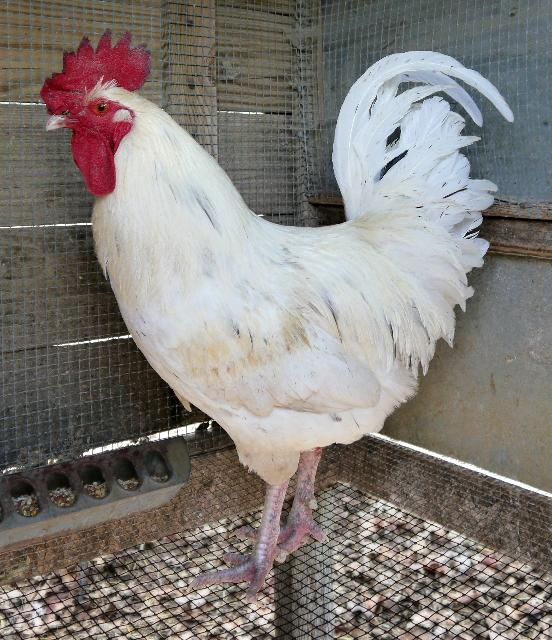Chicken: (40, 27, 517, 599)
